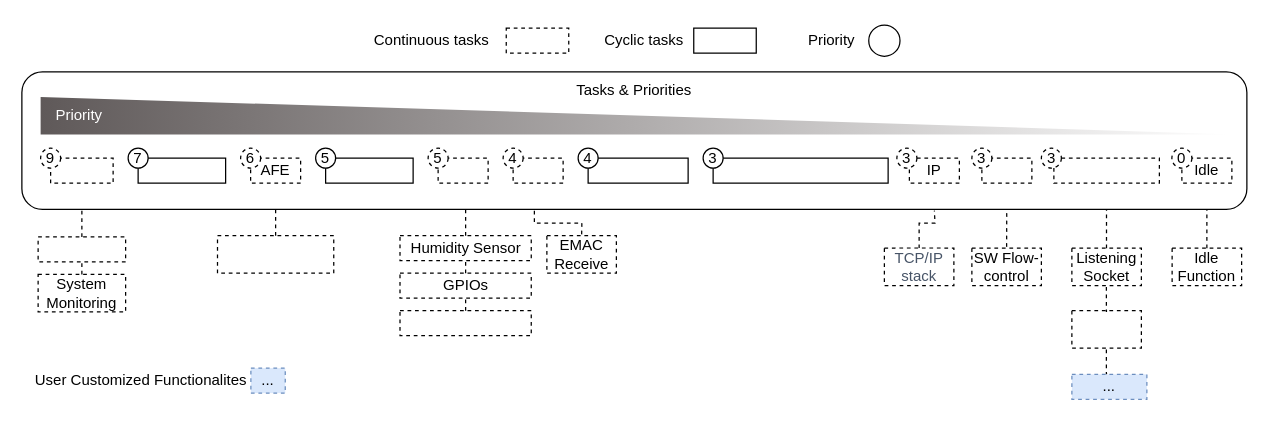
Some shapes in this 1269 by 421 pixel diagram are drawn without their labels. Each missing label, with the box of its shape:
Cyclic 100ms: (587, 157, 688, 183)
Cyclic 10ms: (324, 157, 413, 183)
Cyclic 1ms: (137, 157, 226, 183)
Cyclic Algorithms 100ms: (712, 157, 888, 183)
Database: (37, 236, 126, 262)
Echo Server: (1071, 309, 1141, 348)
EMAC: (512, 157, 563, 183)
Engine: (49, 157, 113, 183)
I2C: (437, 157, 488, 183)
IP- Application: (1053, 157, 1159, 183)
RTC: (399, 309, 531, 336)
UART: (981, 157, 1032, 183)
V & T Measurement: (216, 234, 334, 273)
